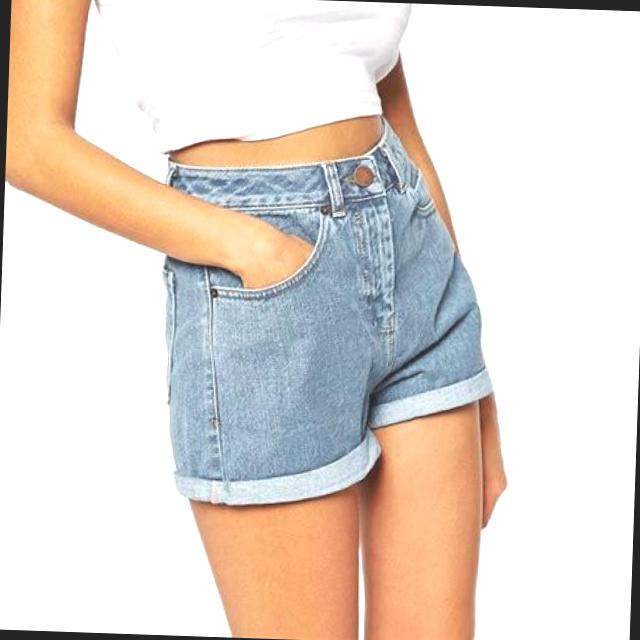short: (153, 106, 502, 516)
